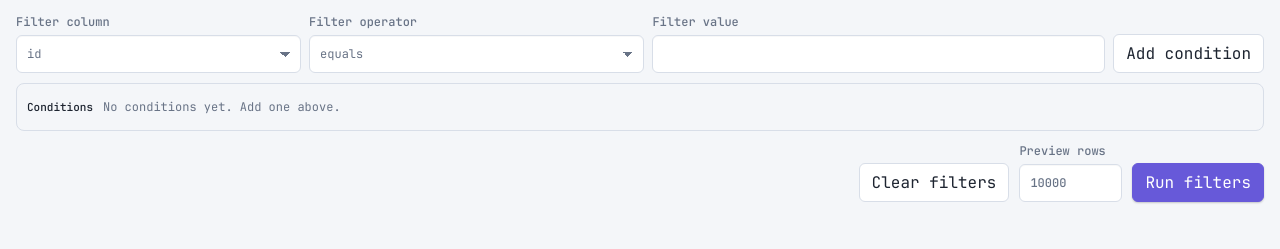
caps the preview control and reports values above 100000
The width and height of the screenshot is (1280, 249).
Replace the text in the number field labelled "Preview rows" with "100001" at (1071, 183), box [1019,164,1122,202]
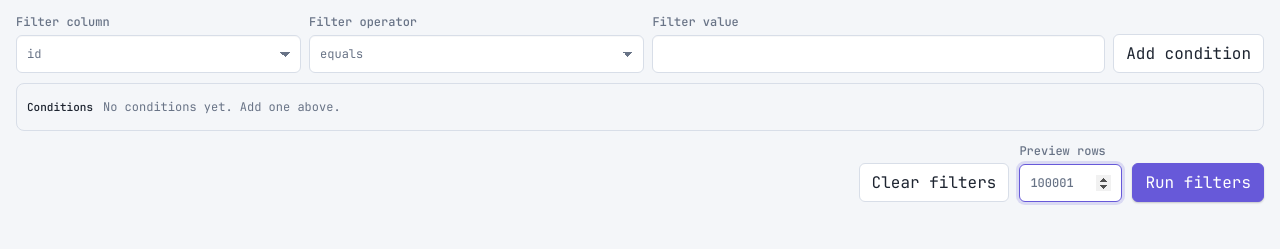
Click the button "Run filters" at (1198, 182), box [1132,163,1264,202]
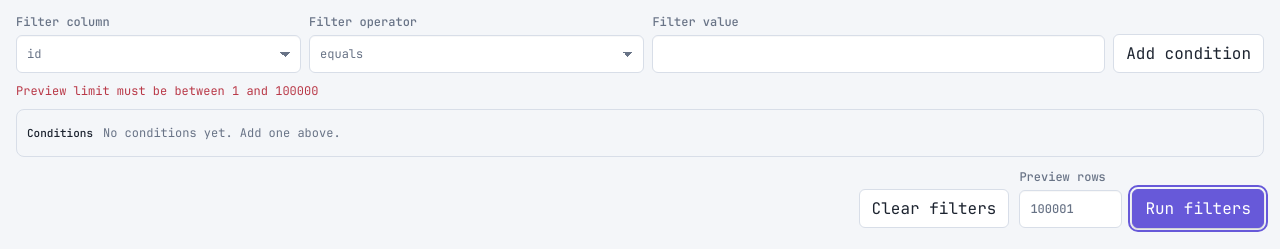
Now the message shows "between 1 and 100000", box [16,83,318,99]
